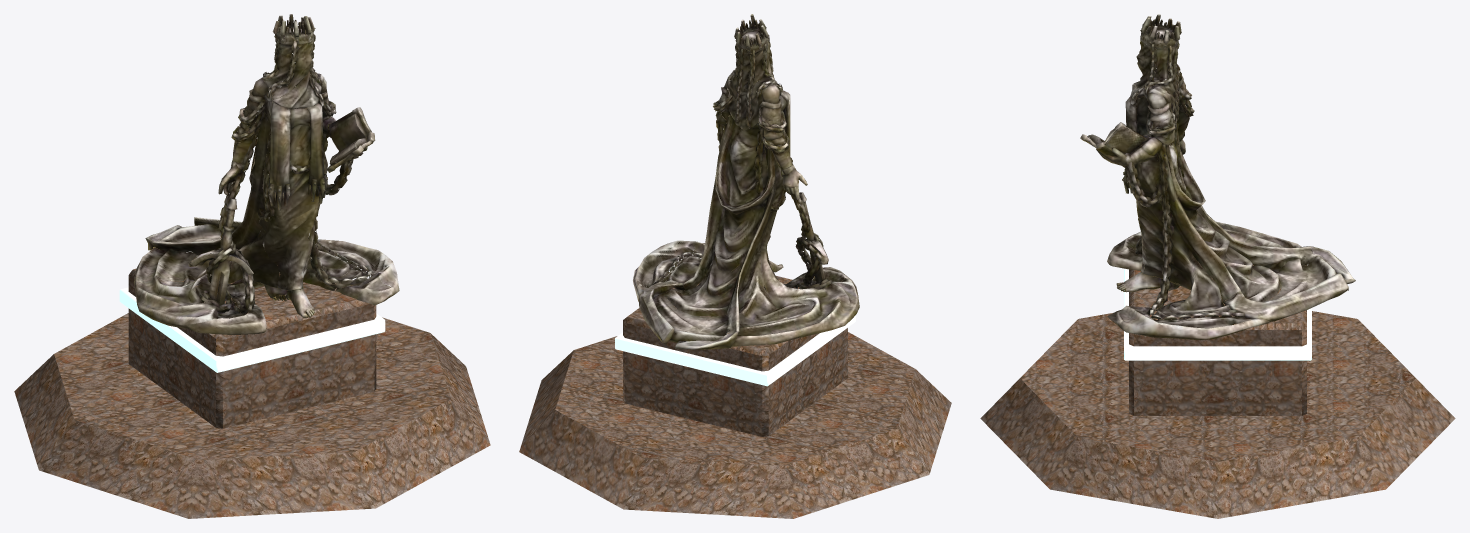
File: env_oath_shrine.glb
3 renders of one model, left to right at view 1: azimuth 30°, elevation 25°; view 2: azimuth 150°, elevation 25°; view 3: azimuth 270°, elevation 25°, orthographic. The views are drawn at different scales.
Parts seen in each view (by area): view 1: ENV_Frostheim_OathShrine, ShrineStatue; view 2: ENV_Frostheim_OathShrine, ShrineStatue; view 3: ENV_Frostheim_OathShrine, ShrineStatue.
Part boxes in pixels (left/top/right/bottom): ENV_Frostheim_OathShrine: left=14, top=265, right=490, bottom=518; ShrineStatue: left=134, top=14, right=399, bottom=334; ENV_Frostheim_OathShrine: left=519, top=266, right=951, bottom=518; ShrineStatue: left=633, top=14, right=859, bottom=349; ENV_Frostheim_OathShrine: left=980, top=262, right=1455, bottom=518; ShrineStatue: left=1080, top=14, right=1355, bottom=339.
Size of what is drawn, in the model's own units: 4.8 by 4.56 by 4.8.
3 materials, 2 textured.
